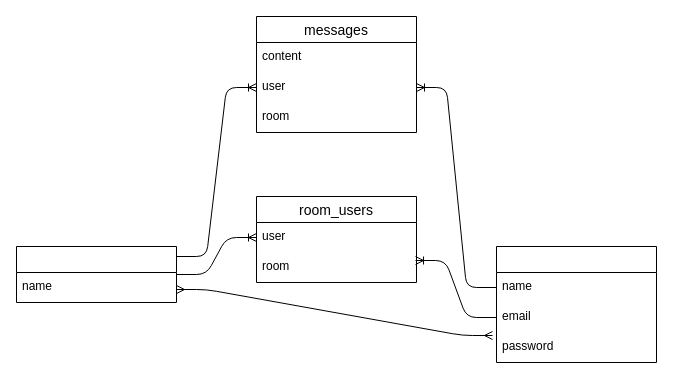
This 673x379 diagram has some shape labels left out. The box of each missing label's shape, as (x1, y1, x2, y2) in pixels:
rooms: (16, 246, 176, 302)
users: (496, 246, 656, 362)
